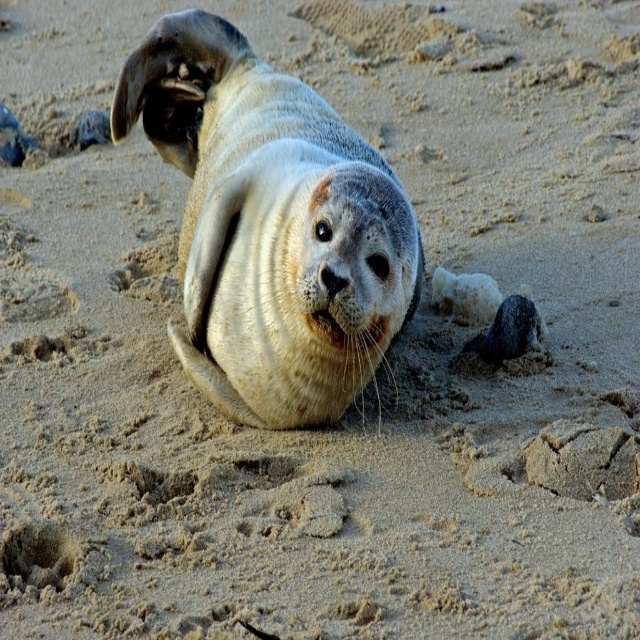Harbor seal: (107, 2, 429, 441)
